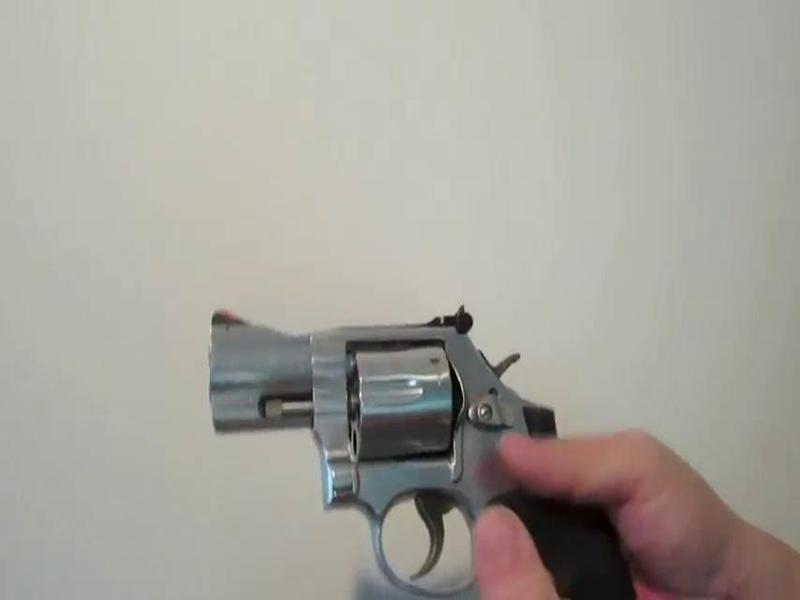Revolver: (167, 279, 645, 600)
